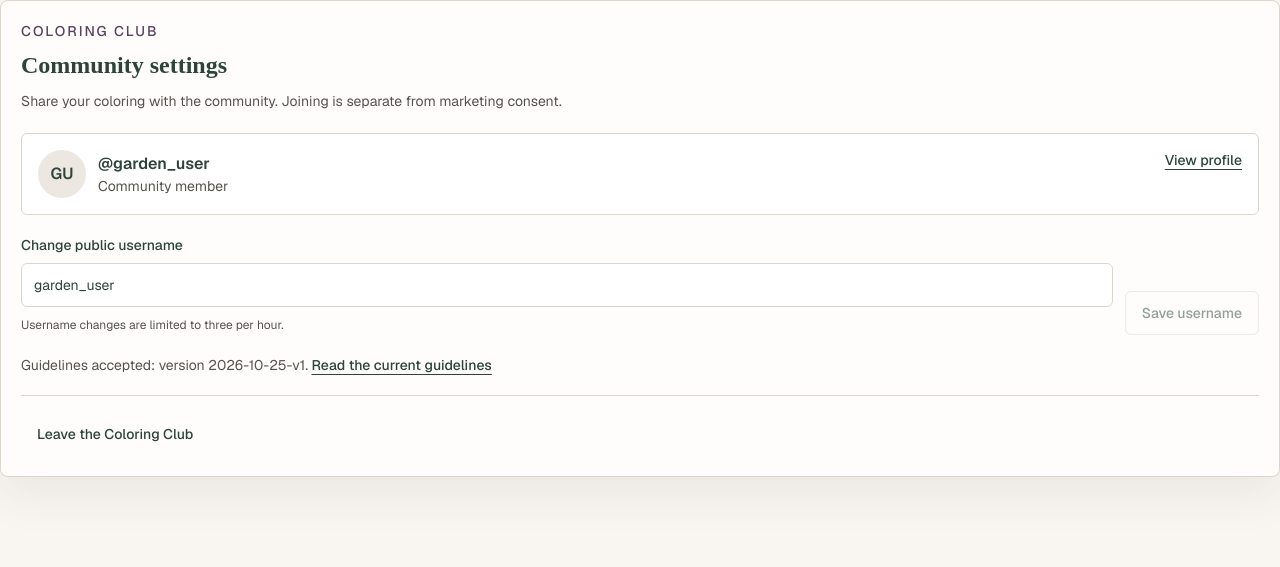
Test case: CommunityAccountPanel › shows public profile only while public access is enabled and handles username conflict safely
Replace the text in the field labelled "Change public username" with "taken_name": (567, 285) [21, 263, 1113, 307]
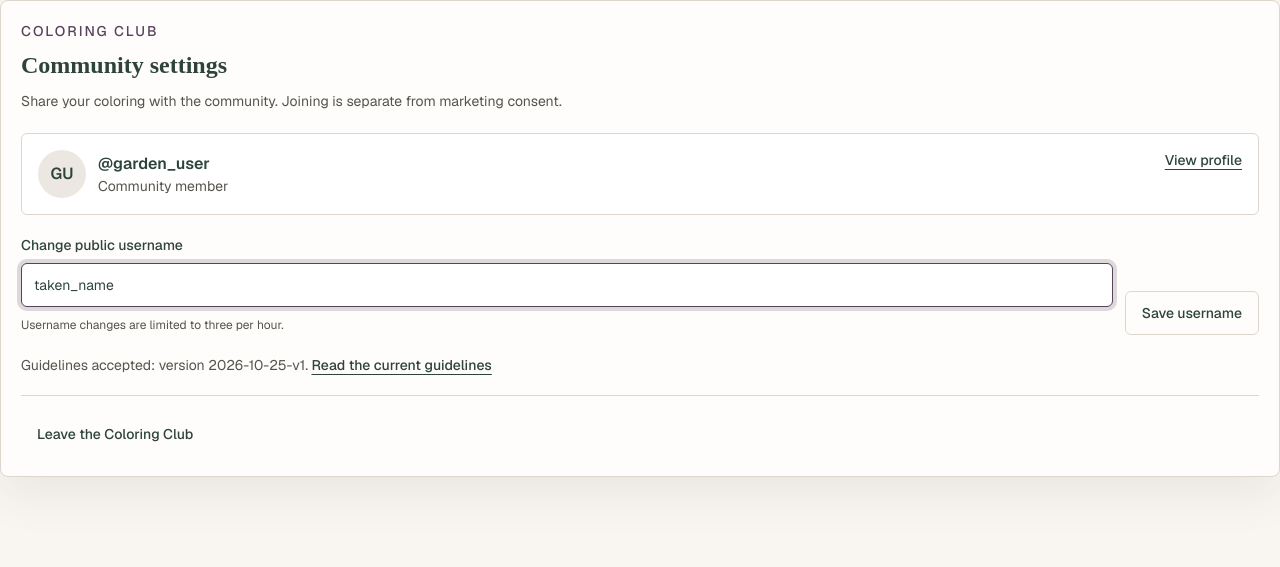
Click the button "Save username": (1192, 313) [1125, 291, 1259, 335]
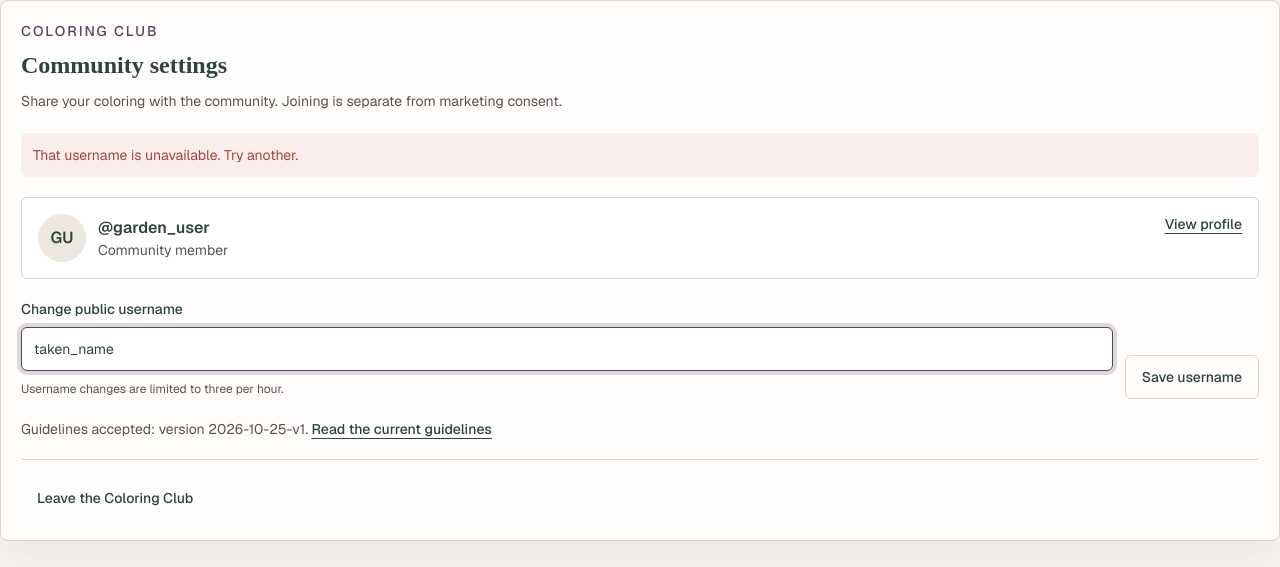
Now the message reads "That username is unavailable. Try another.", box [33, 146, 298, 164]
